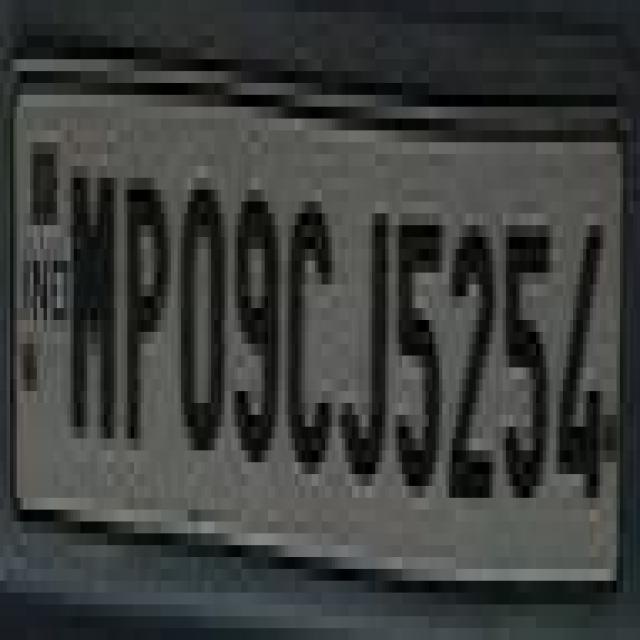license_plate: (37, 48, 630, 616)
